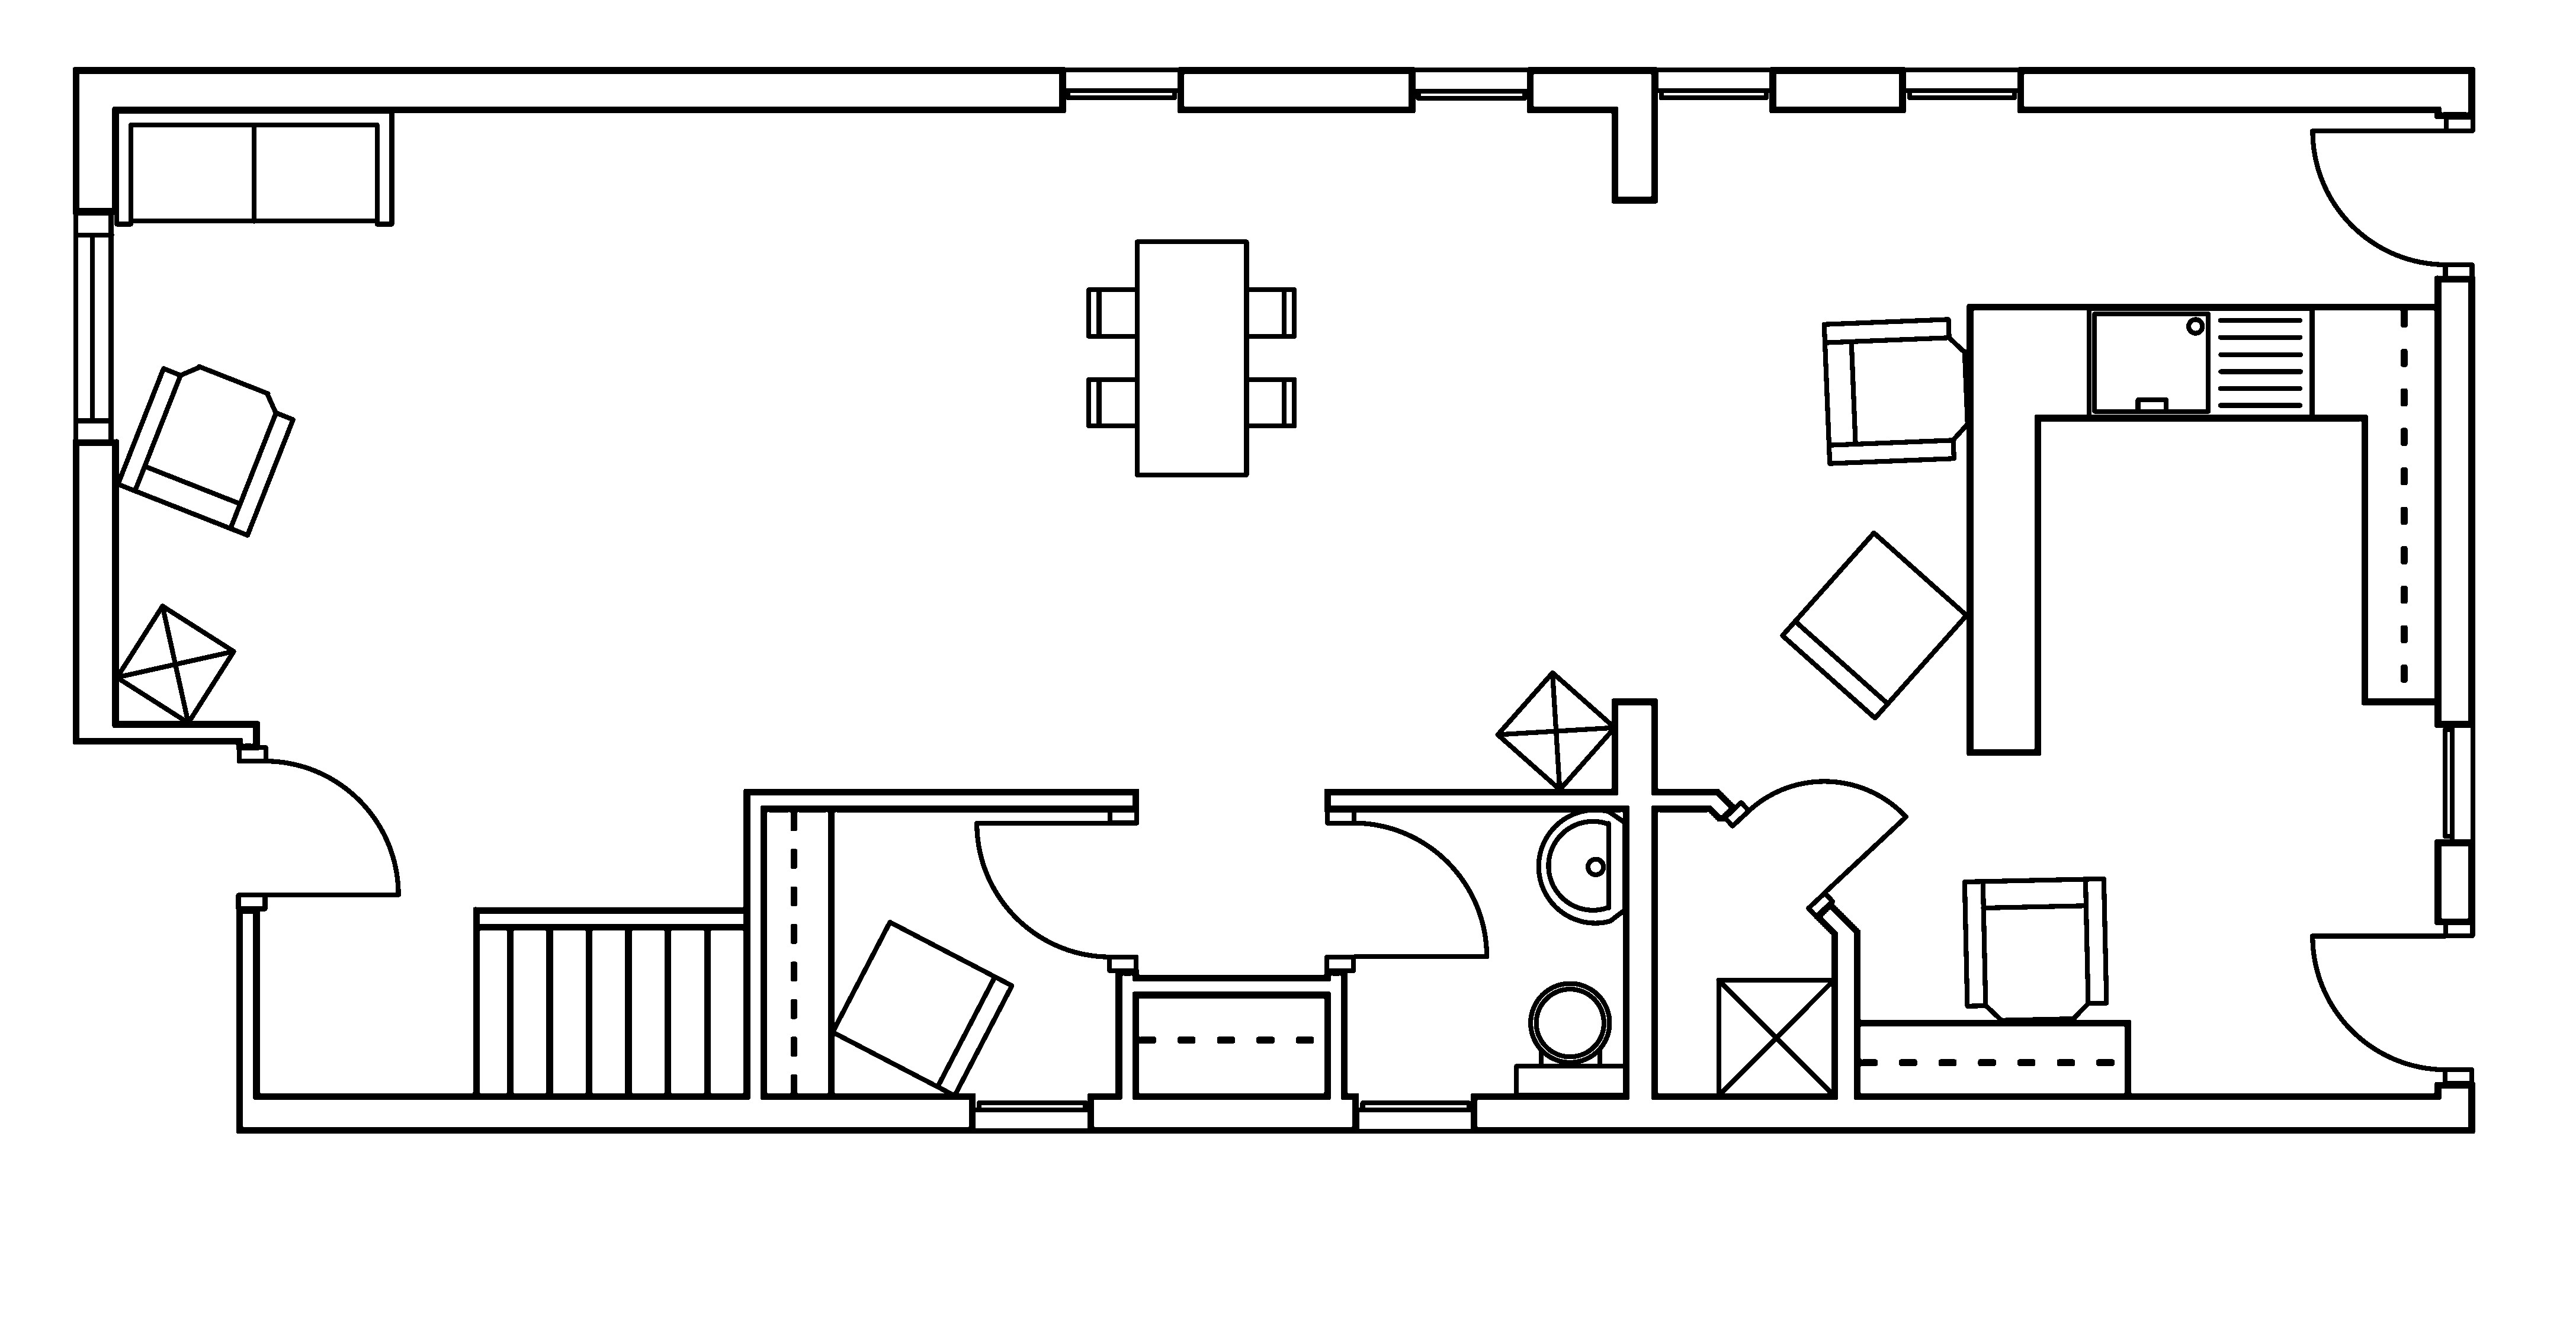armchair: (114, 363, 296, 538), (1821, 316, 1971, 466), (1961, 875, 2109, 1023)
coffee_table: (113, 602, 237, 725), (1493, 670, 1618, 792), (1715, 976, 1836, 1099)
dining_table: (1085, 239, 1296, 478)
large_sink: (1513, 981, 1628, 1097)
large_sofa: (113, 108, 395, 227)
sink: (2085, 305, 2314, 421)
small_sink: (1535, 808, 1628, 925)
small_sofa: (1779, 530, 1969, 720), (829, 919, 1014, 1099)
